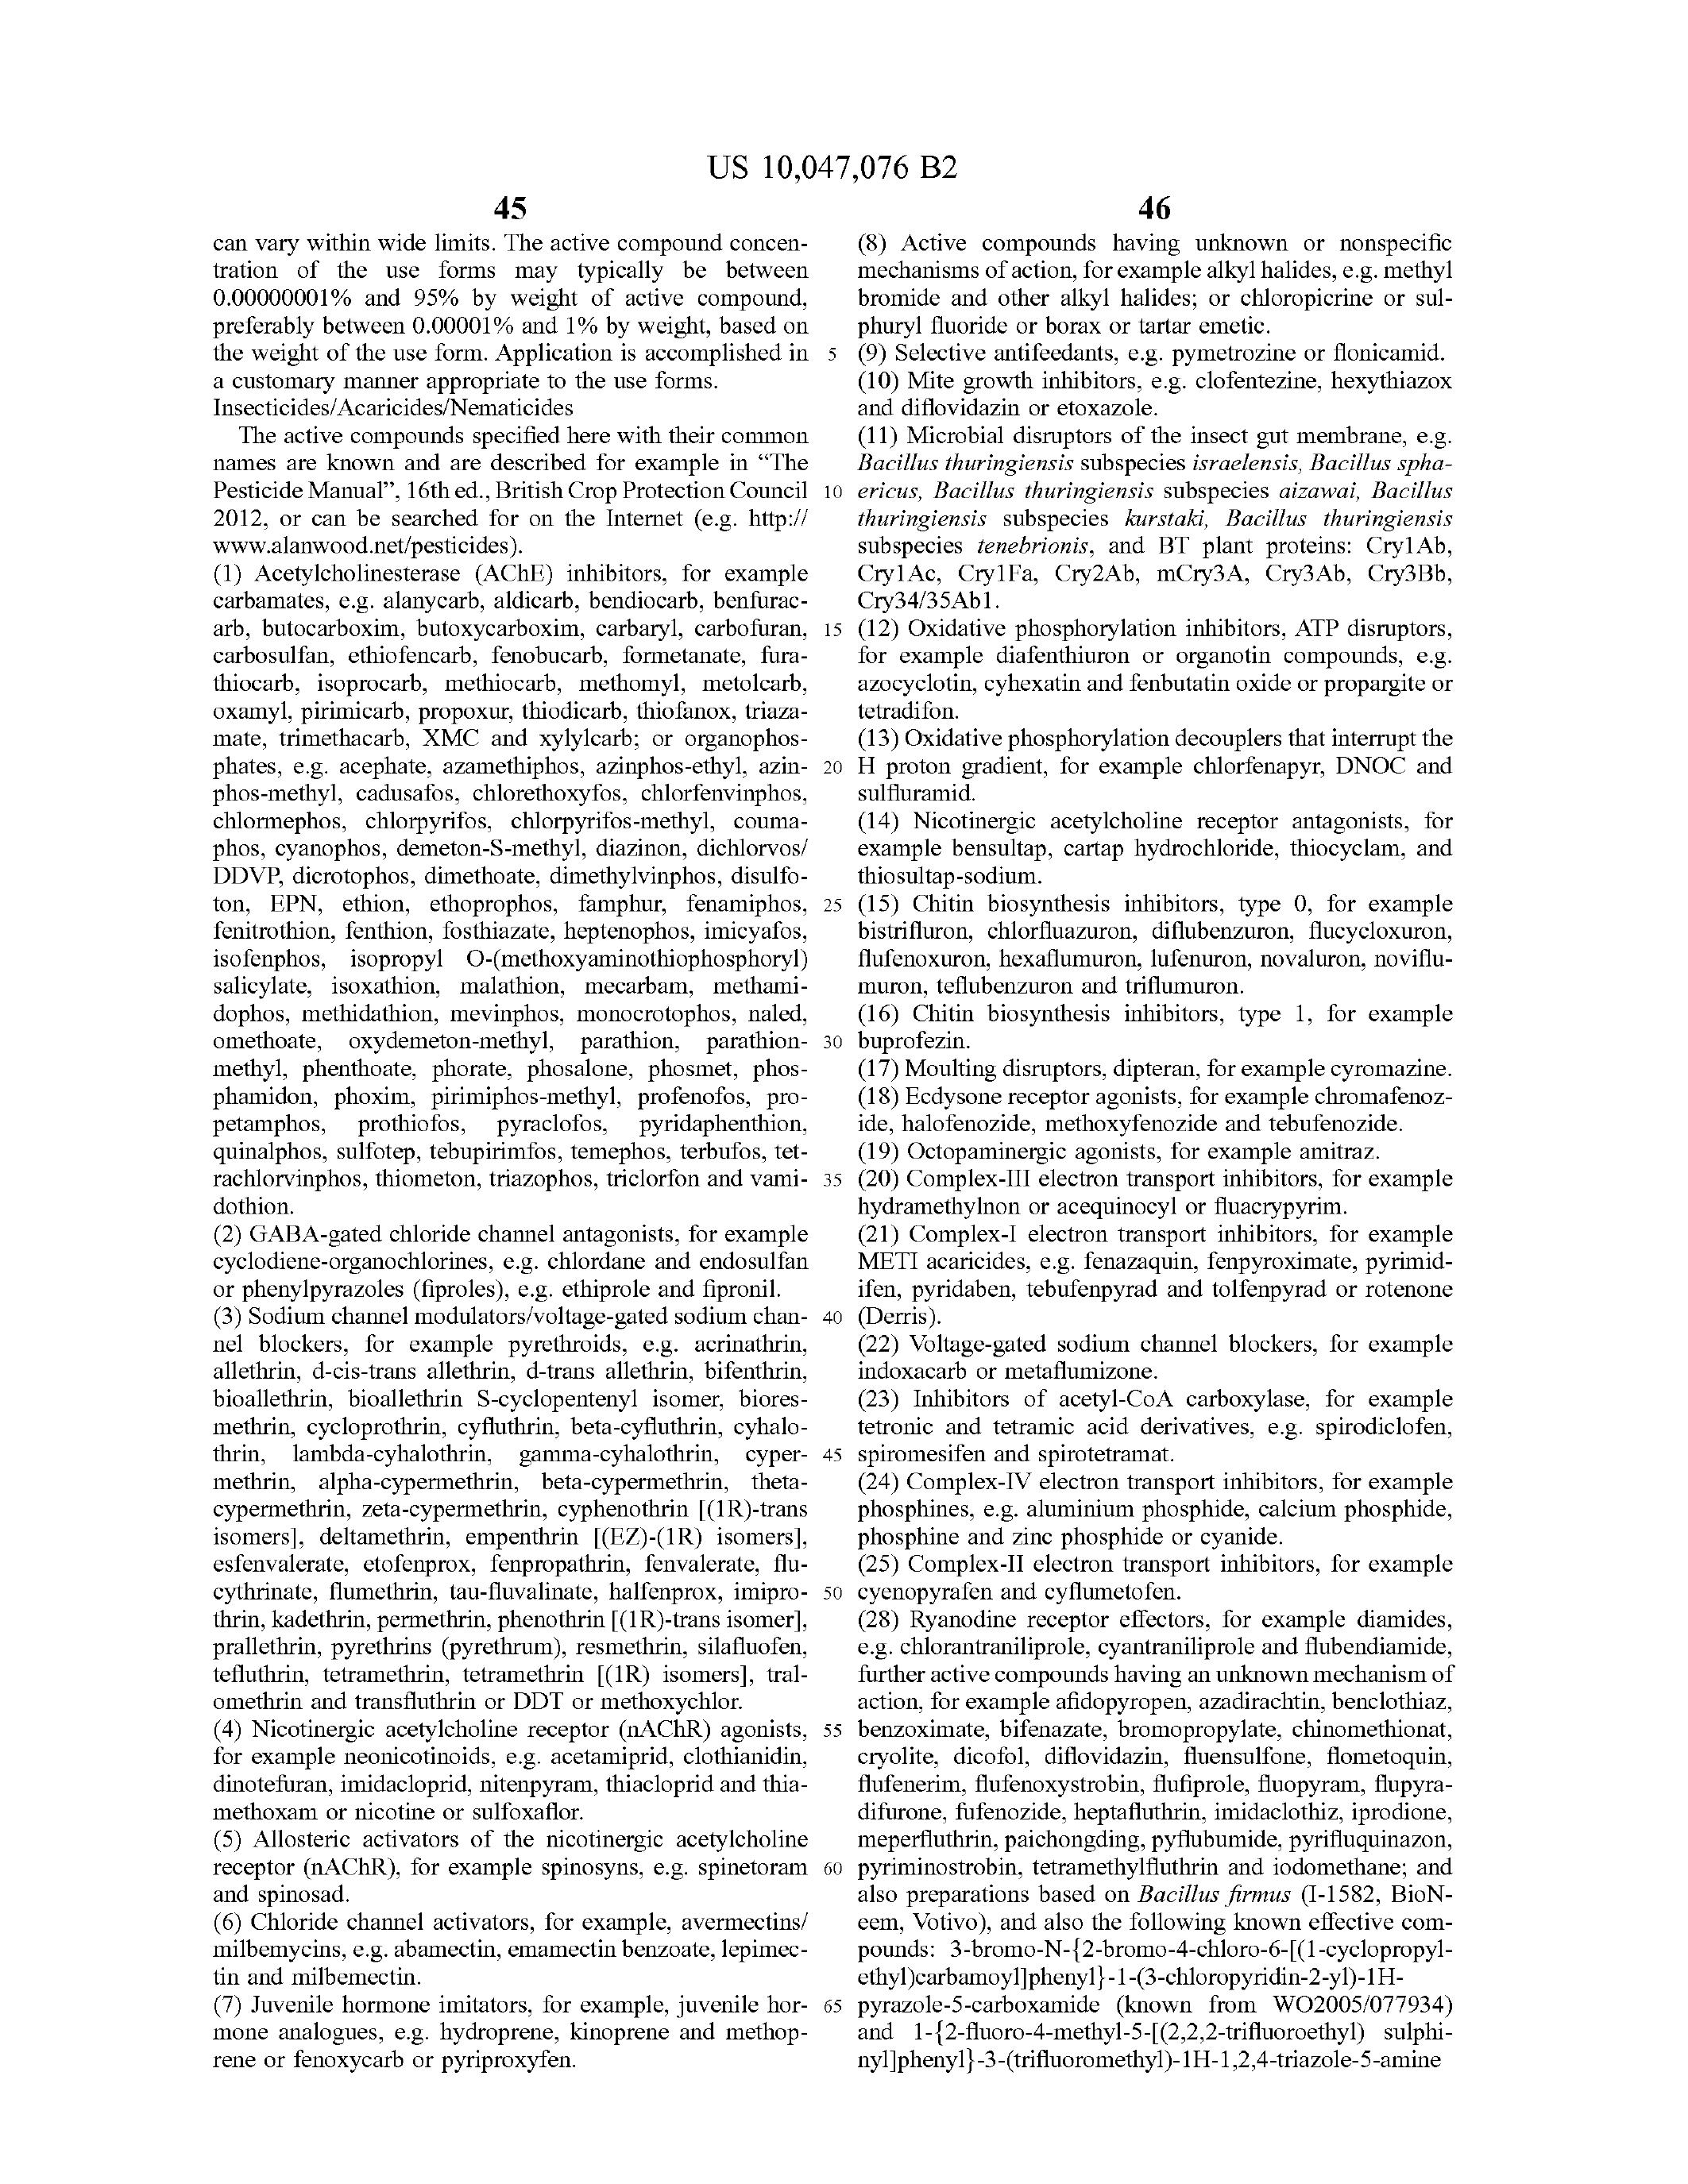substitutes: (174, 557, 805, 1209)
